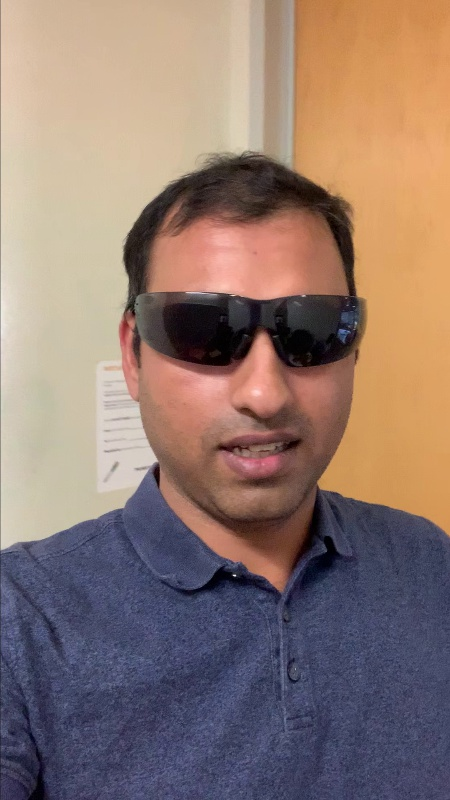glasses: (117, 280, 387, 373)
